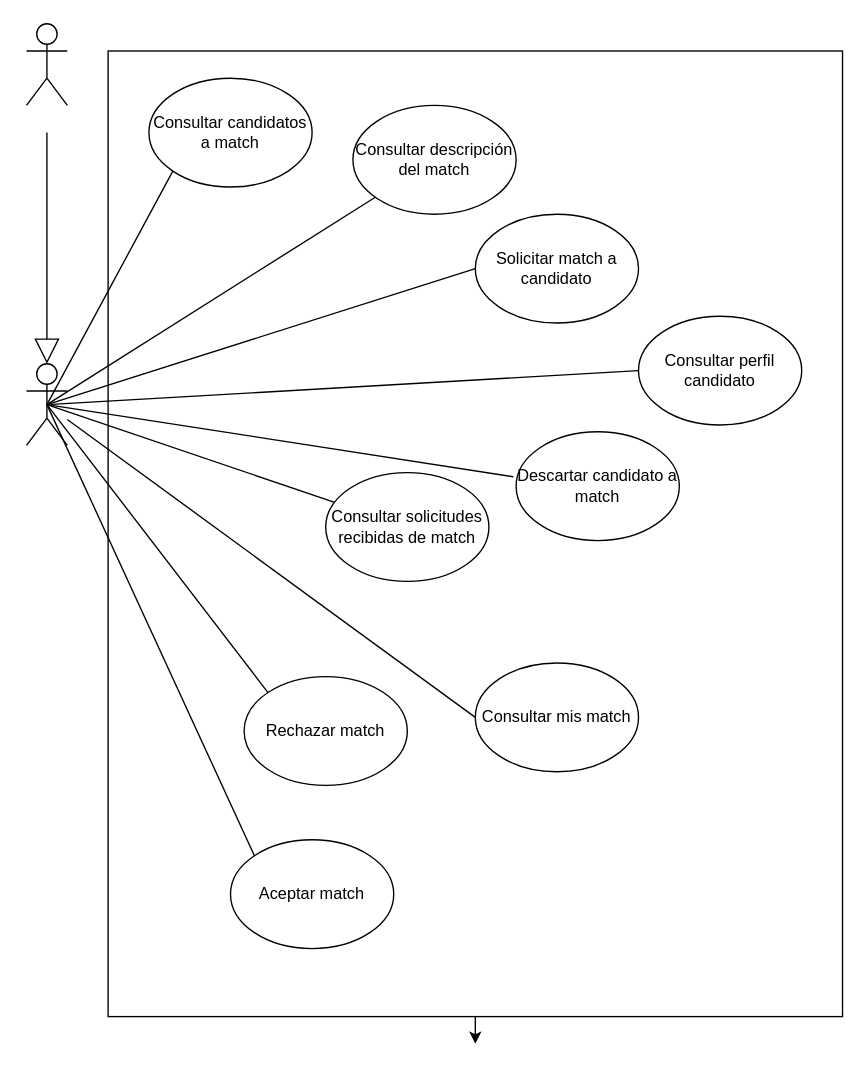
Image size: 866x1078. Some labels were removed from this diagram. The shapes that lost their labels are listed below. From the top down, each one's box as (x1, y1, x2, y2) in pixels, then its label:
(25, 22, 67, 105): Editor
(25, 362, 67, 445): Autor
